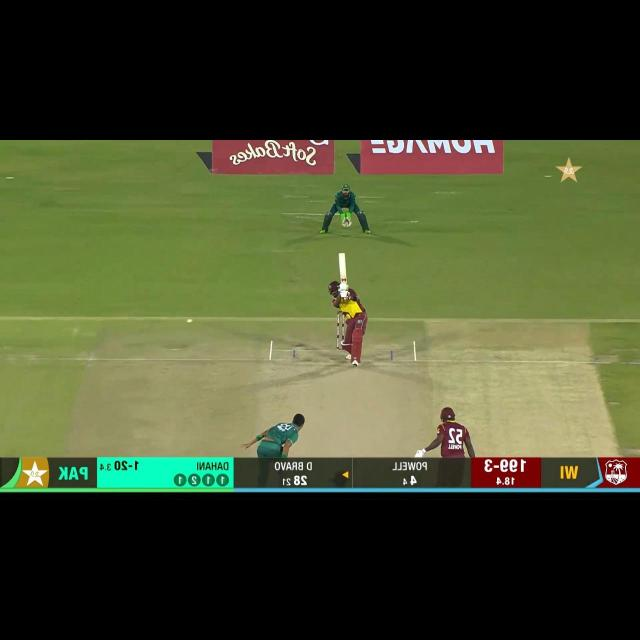bat: (337, 253, 349, 286)
toe: (337, 254, 347, 262)
